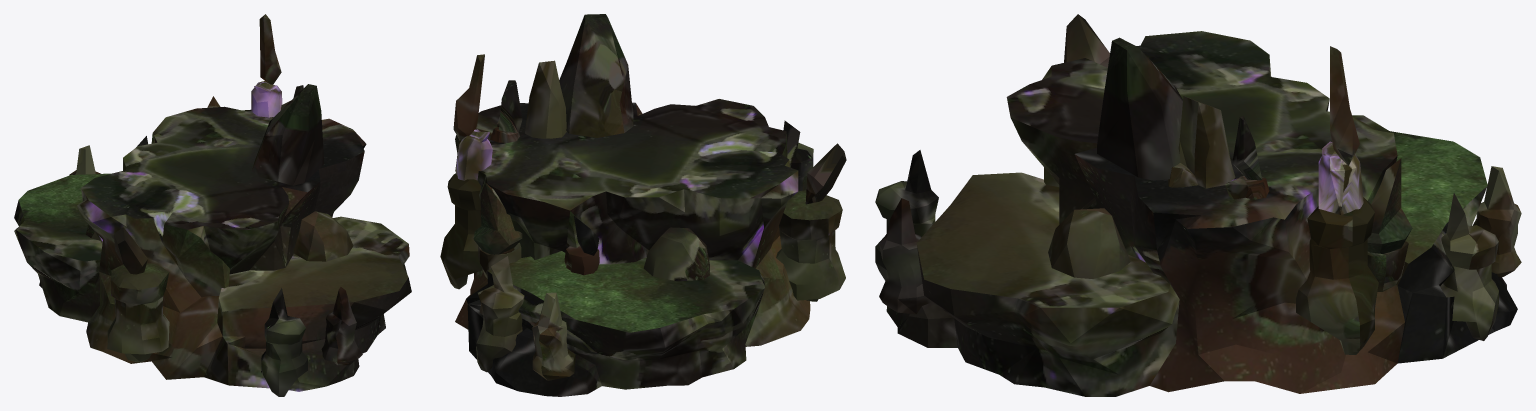
The model's file is FlooorPlatform3 .fbx.
3 renders of one model, left to right at view 1: azimuth 30°, elevation 25°; view 2: azimuth 150°, elevation 25°; view 3: azimuth 270°, elevation 25°, orthographic. The views are drawn at different scales.
Visible parts, largest first — view 1: FlooorPlatform.004; view 2: FlooorPlatform.004; view 3: FlooorPlatform.004.
Boxes of the visible parts, x1,y1,x2,y2 form: FlooorPlatform.004: (14,14,411,396); FlooorPlatform.004: (440,14,846,396); FlooorPlatform.004: (875,14,1521,396).
Size of the model in its own units: 25 by 19.3 by 33.61.
1 material, 1 textured.
